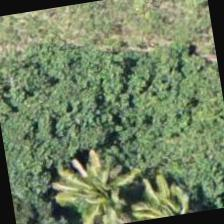Kelapa_Sawit: (48, 149, 149, 223)
